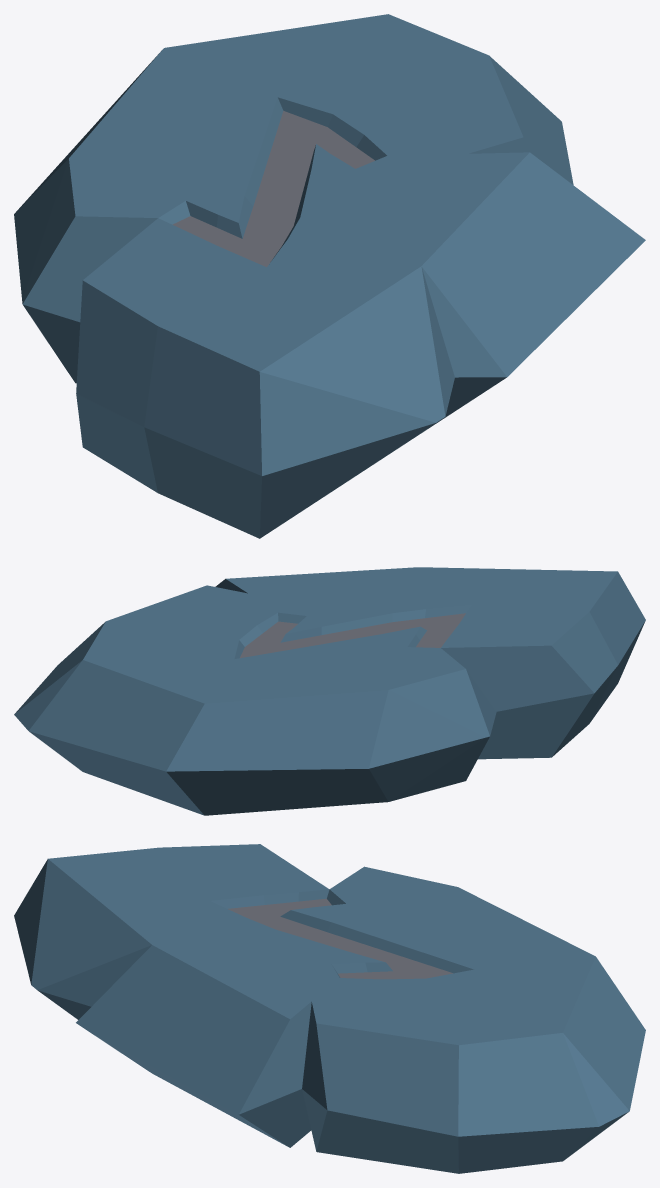
The model's file is Rune_00.FBX.
3 renders of one model, top to bottom at view 1: azimuth 30°, elevation 25°; view 2: azimuth 150°, elevation 25°; view 3: azimuth 270°, elevation 25°, orthographic. The views are drawn at different scales.
Visible parts, largest first — view 1: Rune_00; view 2: Rune_00; view 3: Rune_00.
Boxes of the visible parts, x1,y1,x2,y2 form: Rune_00: [14, 14, 645, 538]; Rune_00: [14, 567, 645, 815]; Rune_00: [14, 844, 645, 1173].
Bounding box in the file's own units: 38.61 × 9.59 × 42.67.
